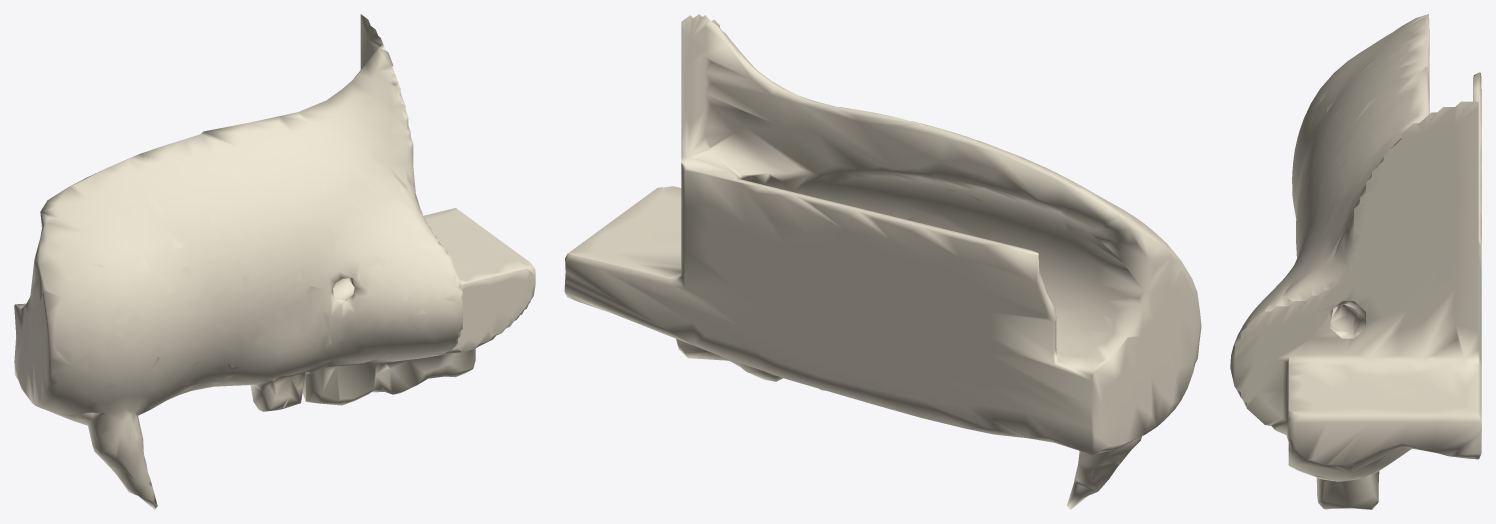
The model's file is maxilla_l.glb.
3 views of the same model, side by side, from view 1: azimuth 30°, elevation 25°; view 2: azimuth 150°, elevation 25°; view 3: azimuth 270°, elevation 25° (orthographic). The views are drawn at different scales.
Visible parts, largest first — view 1: geometry_0; view 2: geometry_0; view 3: geometry_0.
Boxes of the visible parts, <box> form: geometry_0: <box>14,14,535,509</box>; geometry_0: <box>564,14,1201,509</box>; geometry_0: <box>1230,14,1481,509</box>.
Size of the model in its own units: 0.435 by 0.3425 by 0.1693.
